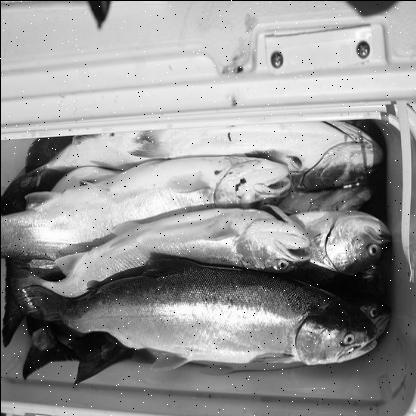fish: (19, 253, 379, 382), (2, 214, 312, 350), (22, 291, 394, 375), (19, 112, 379, 198), (5, 206, 386, 286), (0, 152, 294, 251)
